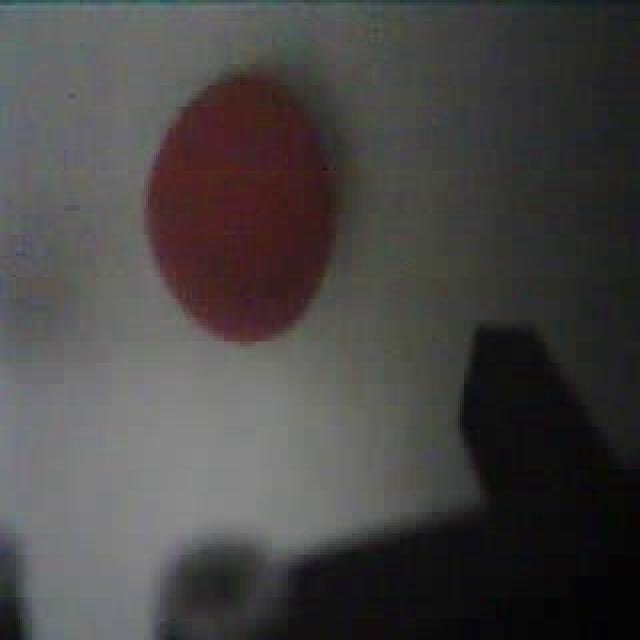red_ball: (142, 66, 340, 346)
